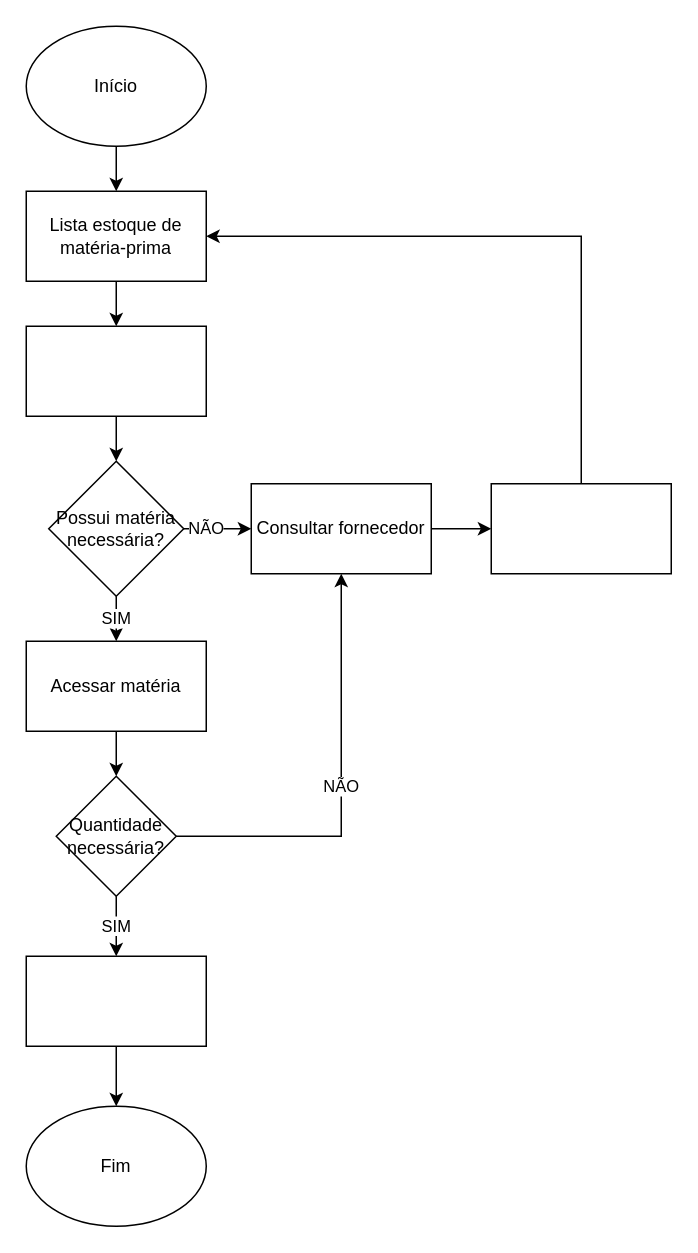
Image size: 698x1253. Some labels were removed from this diagram. Each missing label, with the box of its shape:
Buscar matéria-prima: (25, 325, 206, 416)
Realizar pedido: (490, 482, 671, 574)
Retirada do estoque: (25, 955, 206, 1046)
